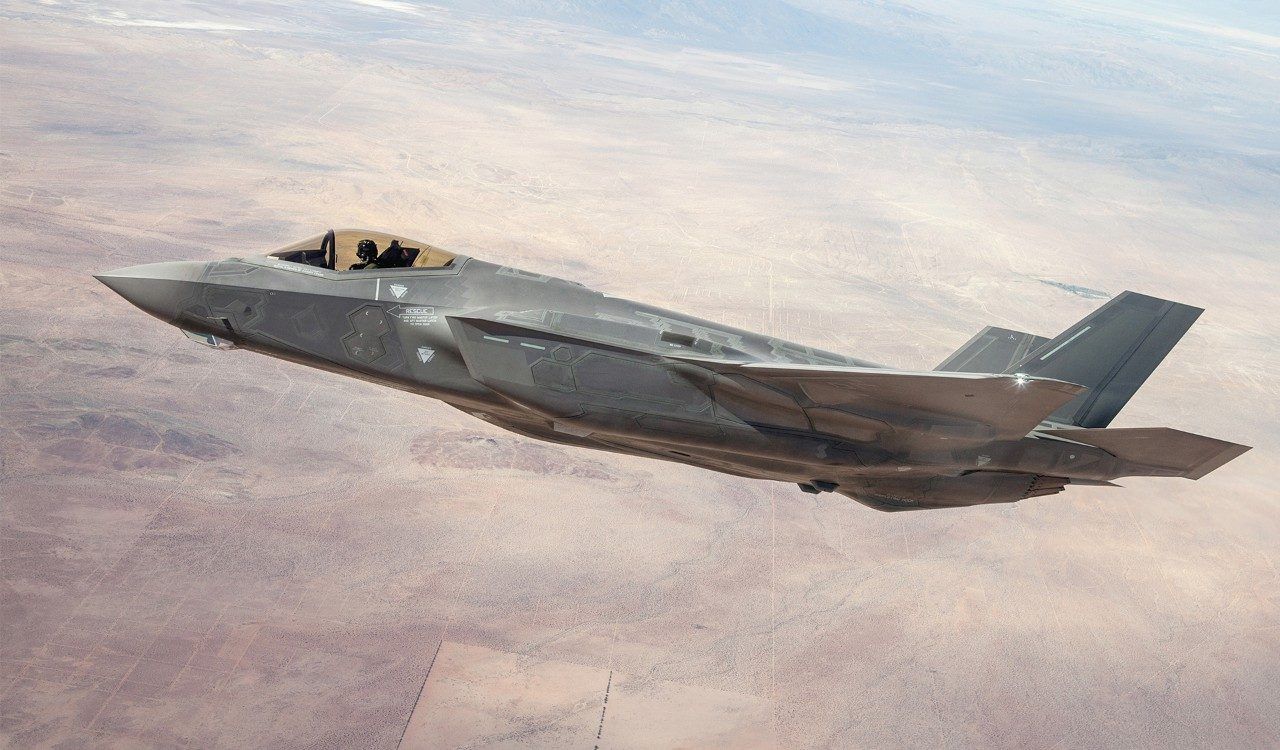F-35 Lightning: (61, 138, 1259, 628)
